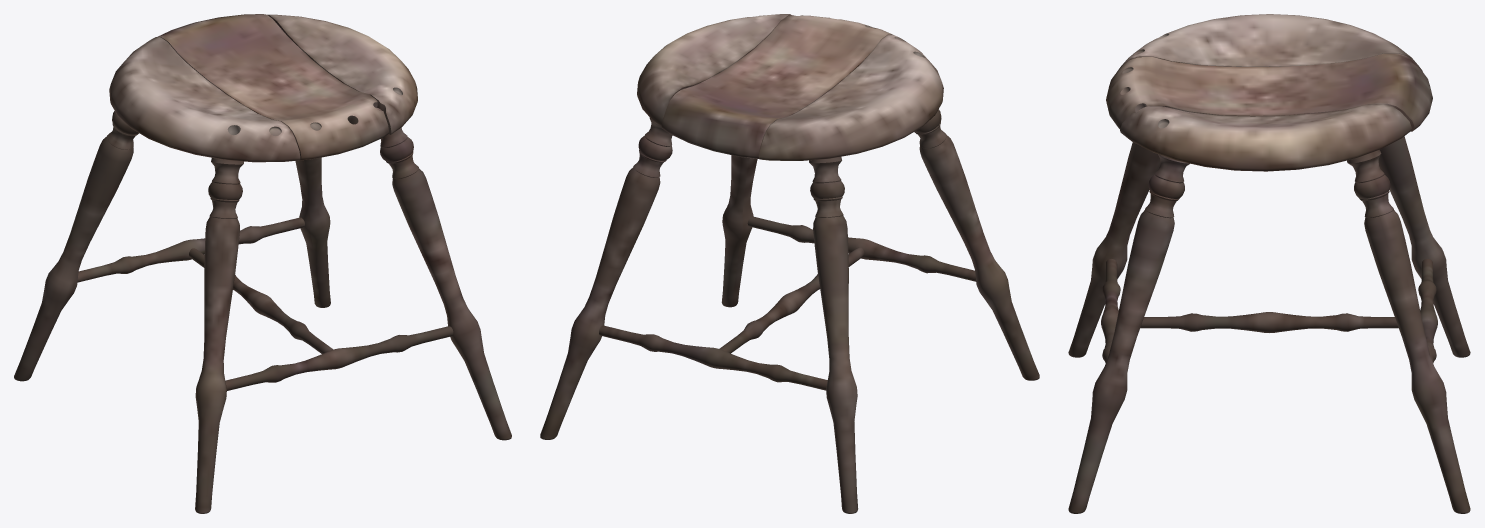
Rendered from wooden_stool_01.glb.
3 renders of one model, left to right at view 1: azimuth 30°, elevation 25°; view 2: azimuth 150°, elevation 25°; view 3: azimuth 270°, elevation 25°, orthographic. The views are drawn at different scales.
Visible parts, largest first — view 1: wooden_stool_01; view 2: wooden_stool_01; view 3: wooden_stool_01.
Boxes of the visible parts, x1=… form: wooden_stool_01: x1=14, y1=14, x2=511, y2=513; wooden_stool_01: x1=540, y1=14, x2=1039, y2=513; wooden_stool_01: x1=1068, y1=14, x2=1470, y2=513.
Bounding box in the file's own units: 0.4254 × 0.4373 × 0.4424.
1 material, 1 textured.
